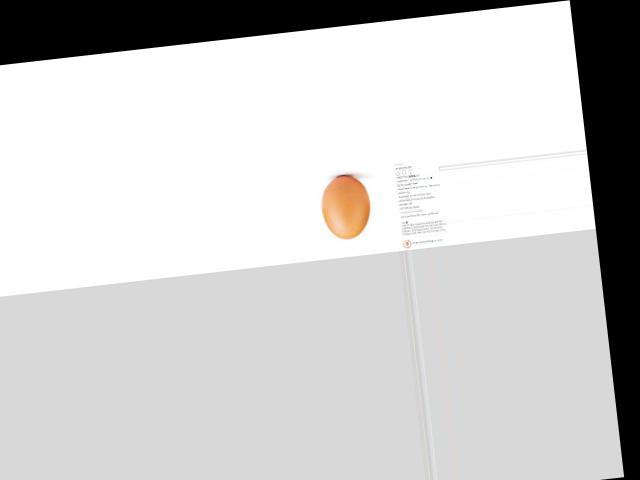egg: (318, 173, 373, 241)
